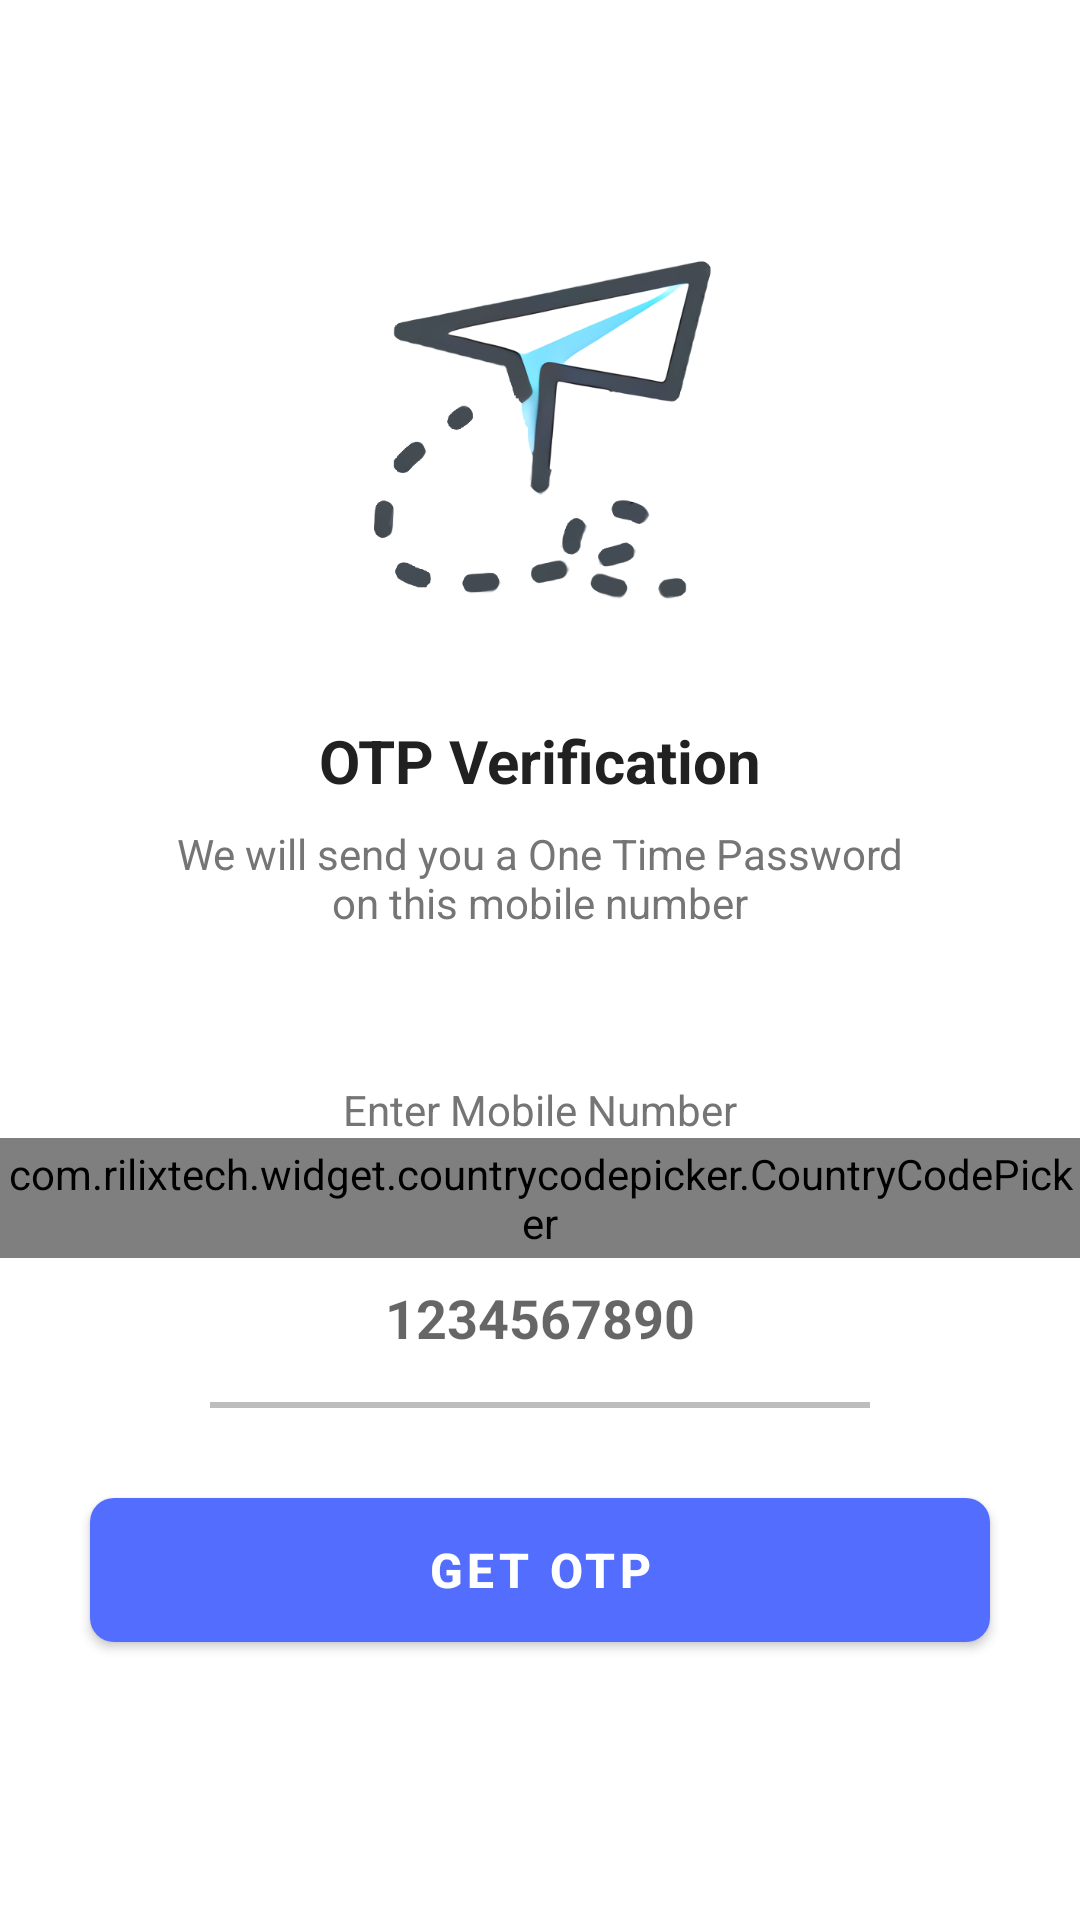

Named icons in this screenshot (1080*1920) and their centers, (x=x, y=y):
send: (x=542, y=430)
